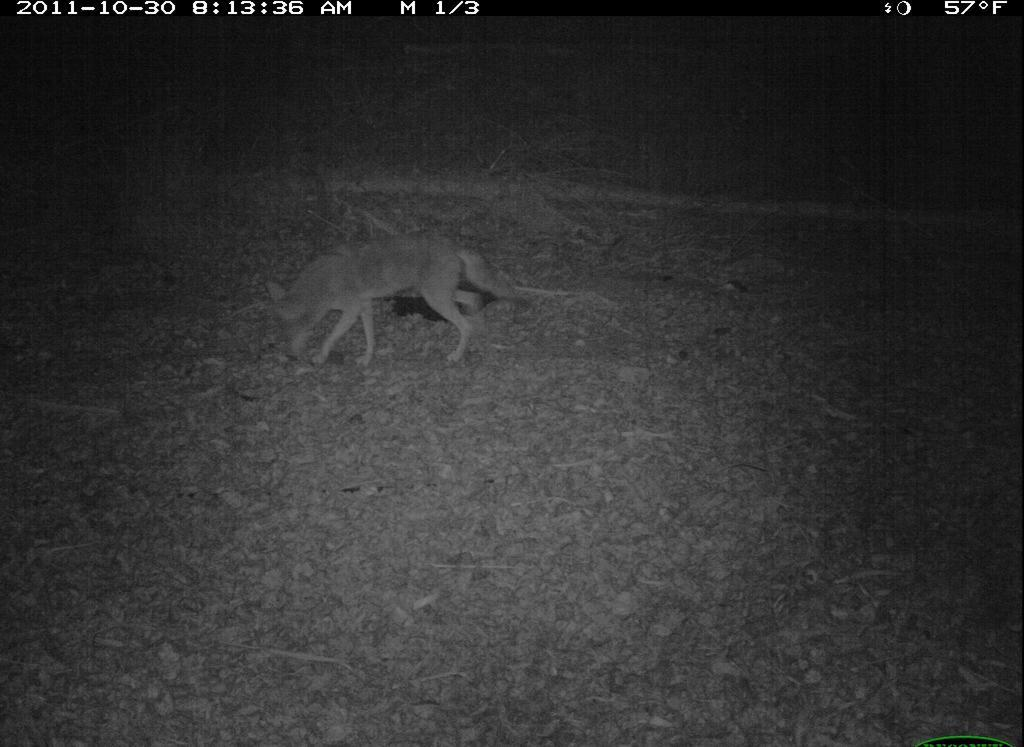coyote: (263, 232, 519, 369)
